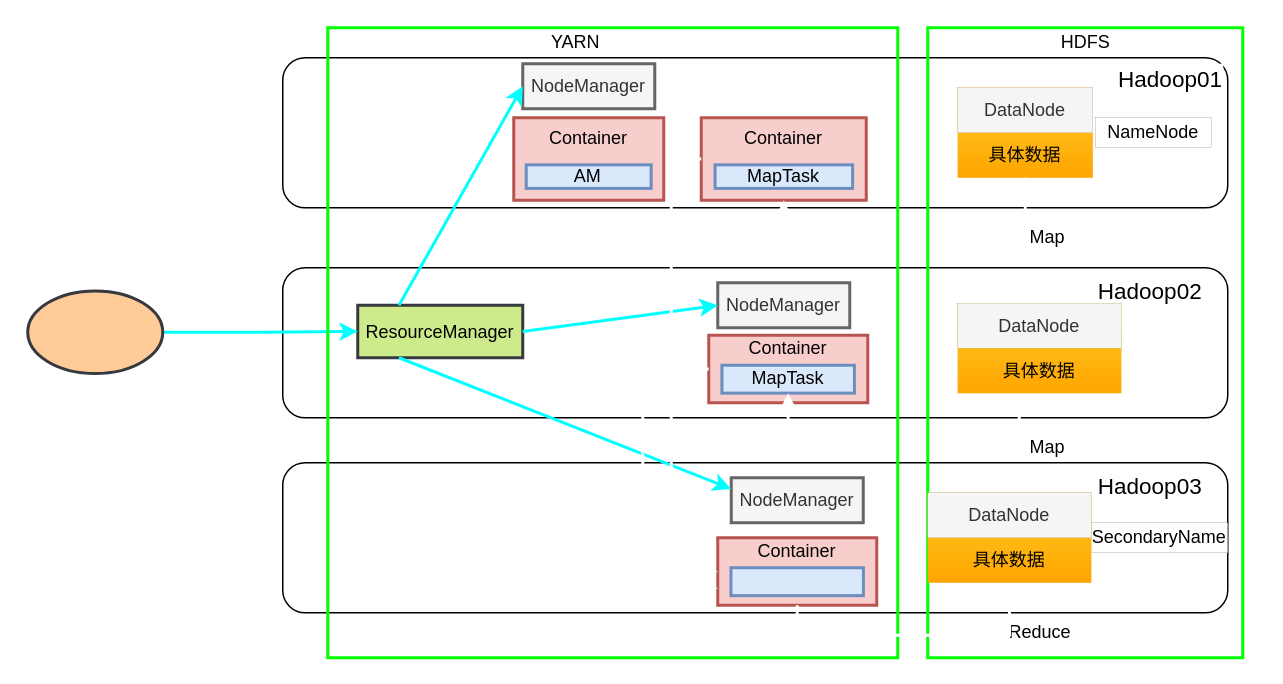
The diagram is 1283 pixels wide and 684 high, and some of its shapes have lost their labels. The shapes that lost their labels are listed below. From the top down, each one's box as (x1, y1, x2, y2) in pixels, then its label:
(26, 289, 164, 374): Client
(729, 566, 864, 596): ReduceTask
